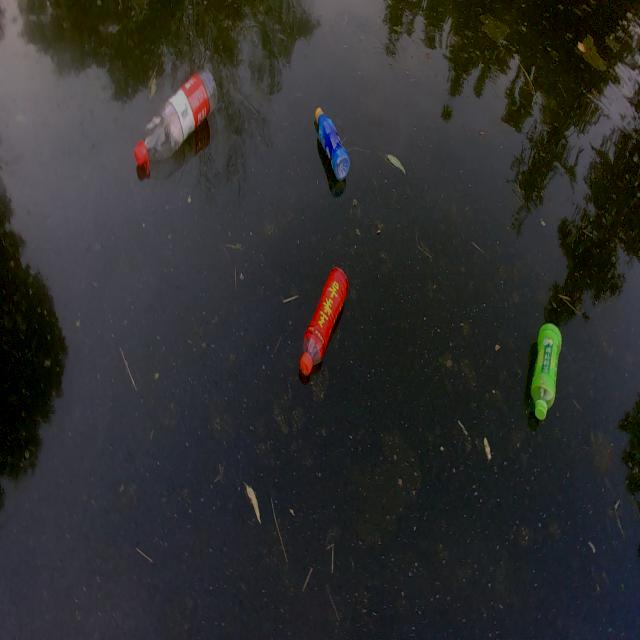bottle: (115, 39, 237, 196), (272, 234, 366, 396), (520, 319, 567, 424), (305, 94, 355, 188)
